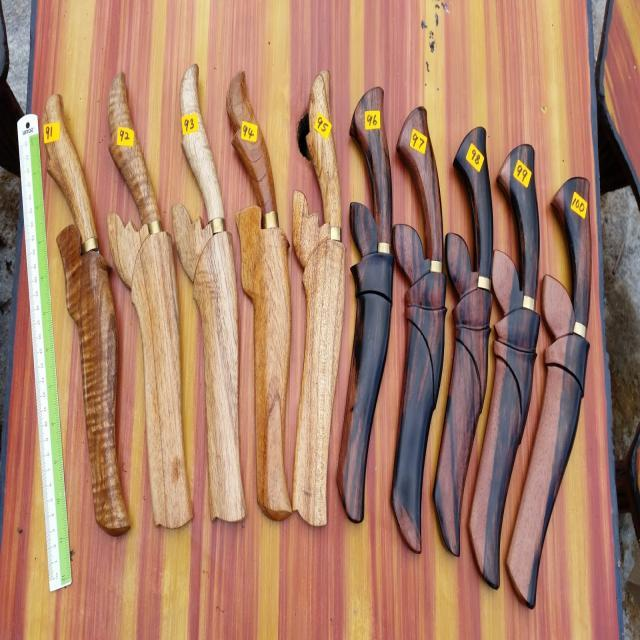Pisau: (283, 58, 349, 536)
